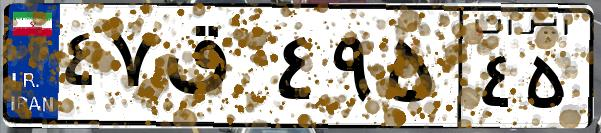4: (270, 28, 330, 110), (57, 26, 110, 100), (475, 38, 525, 113)
5: (385, 28, 445, 110), (525, 38, 570, 115)
7: (110, 28, 158, 98)
9: (330, 28, 385, 110)
ق: (158, 20, 270, 120)
